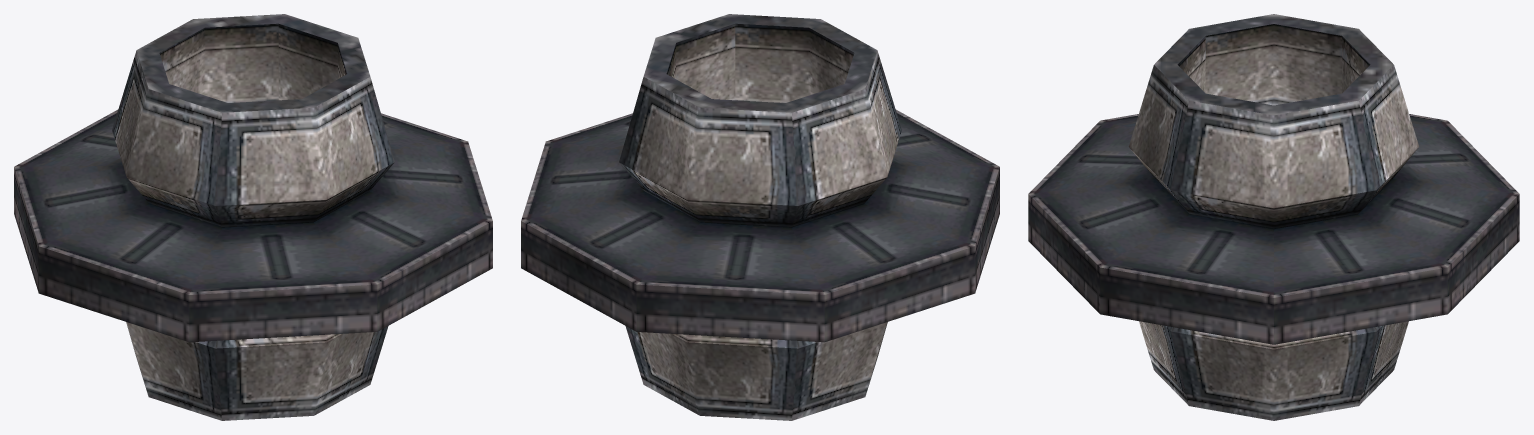
Rendered from kessel_mine_missileturret_main_s01_l2.fbx.
3 renders of one model, left to right at view 1: azimuth 30°, elevation 25°; view 2: azimuth 150°, elevation 25°; view 3: azimuth 270°, elevation 25°, orthographic.
Parts seen in each view (by area): view 1: mesh_node; view 2: mesh_node; view 3: mesh_node.
Part boxes in pixels (x1,y1,x2,y2): mesh_node: (14, 14, 492, 420); mesh_node: (521, 14, 999, 420); mesh_node: (1028, 14, 1519, 420).
Bounding box in the file's own units: 8.9 × 6.1 × 8.9.
1 material, 1 textured.
